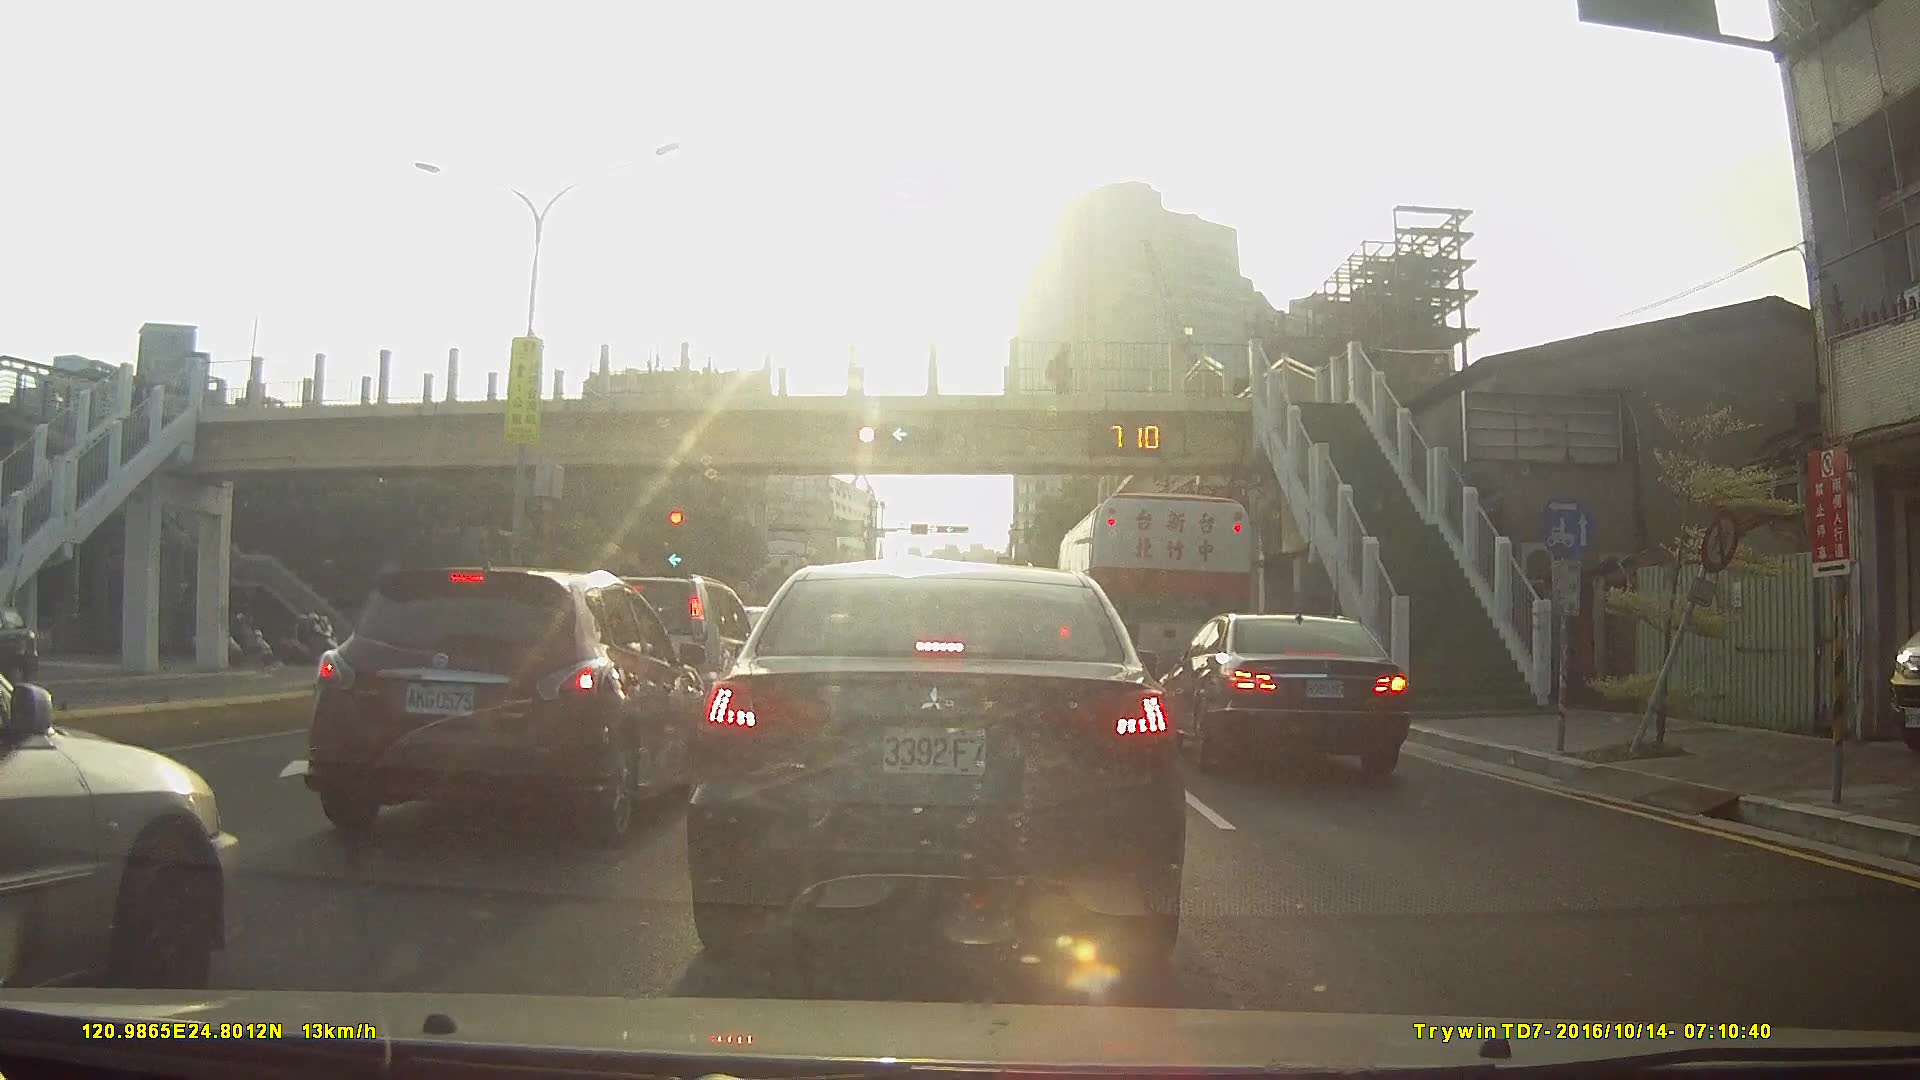pedestrian: (1049, 346, 1076, 402)
rider: (281, 611, 347, 666), (224, 613, 279, 667)
vehicle: (680, 556, 1186, 963), (302, 562, 714, 846), (0, 668, 240, 1008), (1057, 490, 1254, 721), (1145, 610, 1409, 778), (0, 603, 39, 688)
